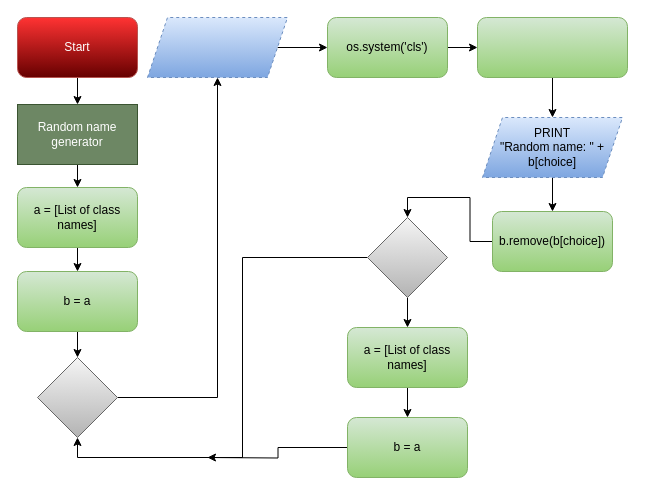
Image size: 645x495. Some labels were removed from this diagram. The shapes that lost their labels are listed below. From the top down, each one's centre as x and y in pixels, then its label:
point 217,47: INPUT "Press Enter to generate new name\n"
point 552,47: choice = random.randint(0,len(b)-1)
point 407,257: if len(b) <= 0
point 77,397: While true
